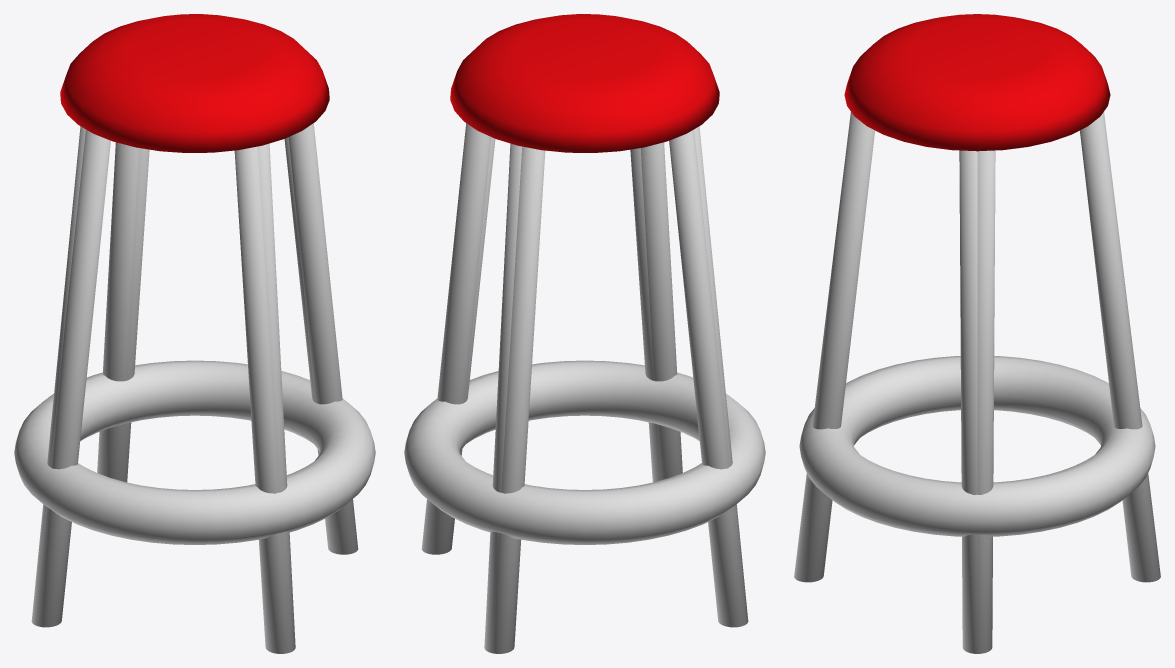
The model's file is PH_TABOURET_.fbx.
The picture shows the model from 3 angles, left to right: view 1: azimuth 30°, elevation 25°; view 2: azimuth 150°, elevation 25°; view 3: azimuth 270°, elevation 25°; orthographic projection.
Parts seen in each view (by area): view 1: 001; view 2: 001; view 3: 001.
Boxes of the visible parts, x1=… form: 001: x1=14, y1=14, x2=375, y2=653; 001: x1=404, y1=14, x2=765, y2=653; 001: x1=794, y1=14, x2=1160, y2=653.
Bounding box in the file's own units: 51.35 × 81.35 × 51.35.
